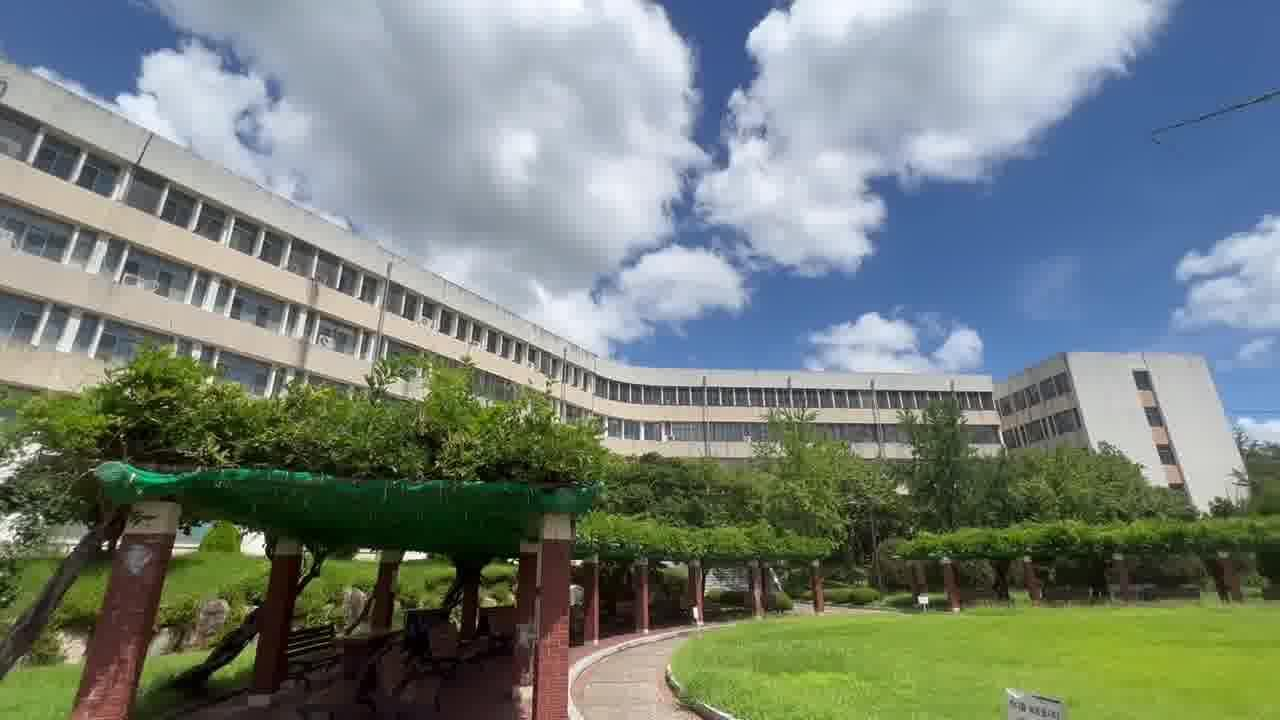building: (581, 352, 1229, 448)
